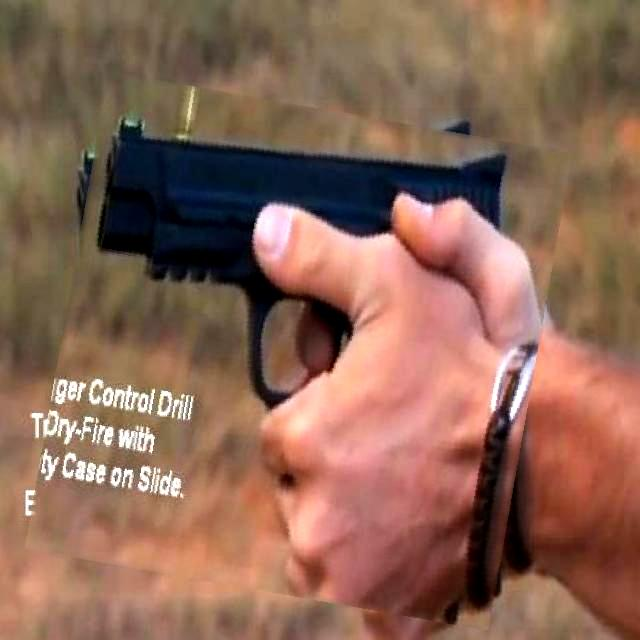pistol: (43, 89, 553, 611)
